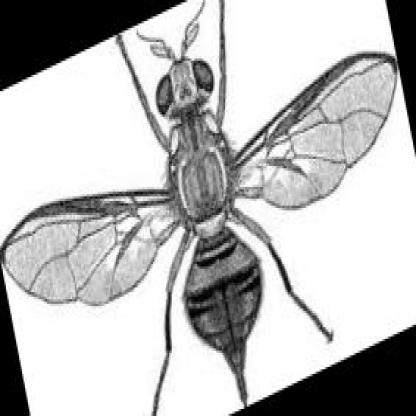fruit fly: (2, 9, 395, 403)
